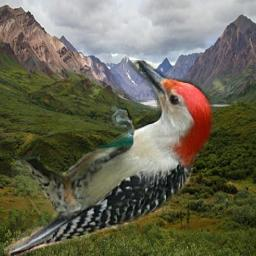Woodpecker: (4, 60, 214, 256)
